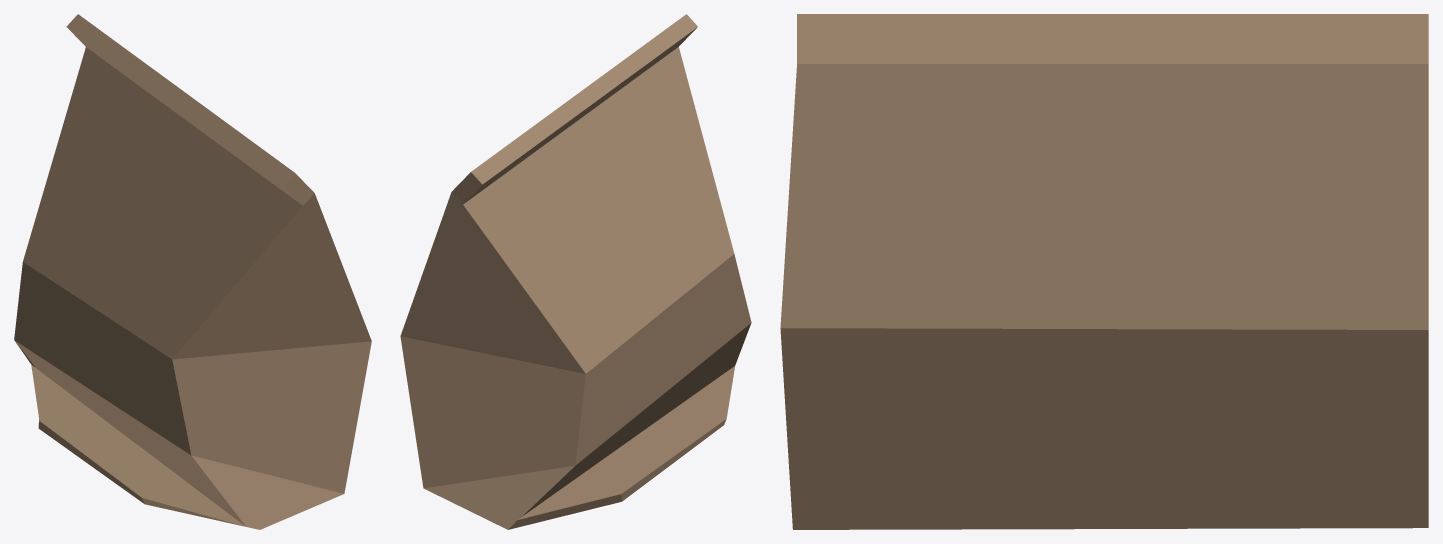
File: chips.fbx
3 views of the same model, side by side, from view 1: azimuth 30°, elevation 25°; view 2: azimuth 150°, elevation 25°; view 3: azimuth 270°, elevation 25° (orthographic). The views are drawn at different scales.
Parts seen in each view (by area): view 1: chips; view 2: chips; view 3: chips.
Boxes of the visible parts, <box> form: chips: <box>14,14,371,529</box>; chips: <box>400,14,751,529</box>; chips: <box>780,14,1428,529</box>.
Size of the model in its own units: 17.99 by 41.41 by 36.02.
